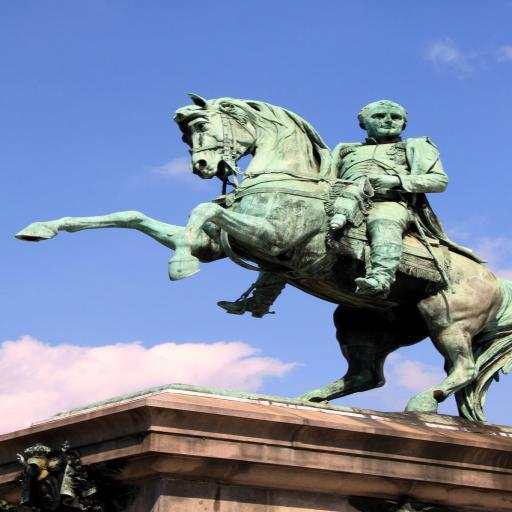Horse: (15, 91, 511, 424)
